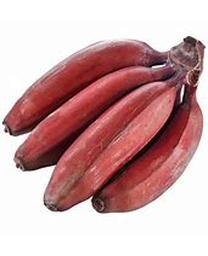banana: (4, 36, 203, 212)
